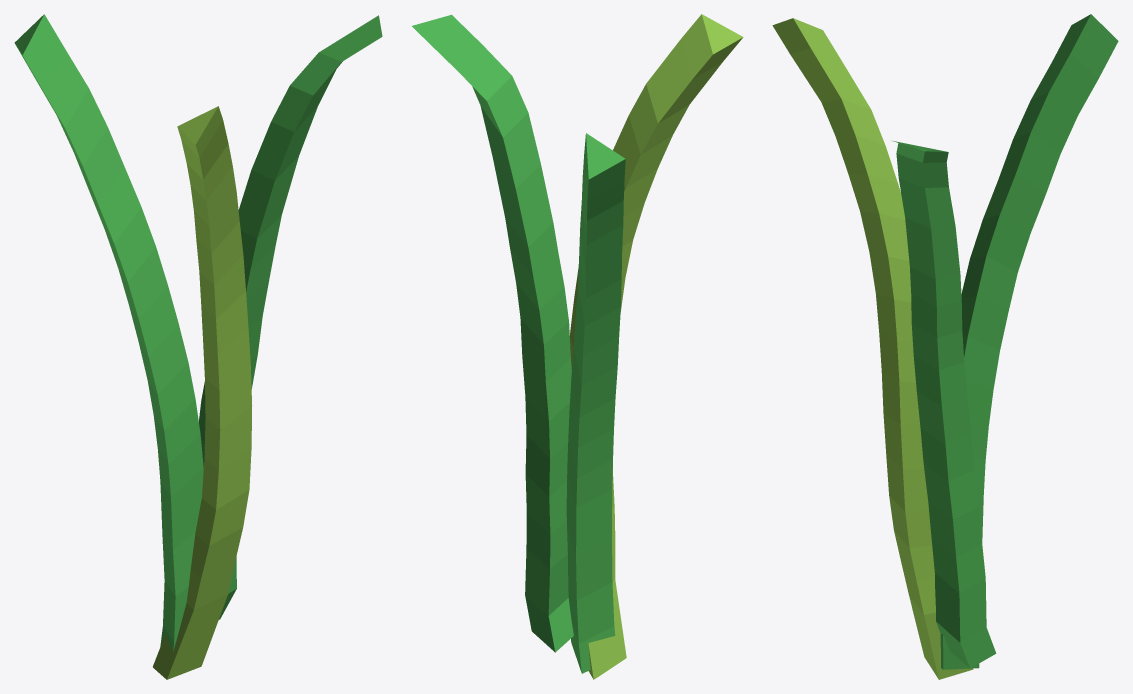
Rendered from step-1.glb.
The picture shows the model from 3 angles, left to right: view 1: azimuth 30°, elevation 25°; view 2: azimuth 150°, elevation 25°; view 3: azimuth 270°, elevation 25°; orthographic projection. The views are drawn at different scales.
Parts seen in each view (by area): view 1: group519773470.001, group631341903.001, group1734075056.001; view 2: group1734075056.001, group519773470.001, group631341903.001; view 3: group1734075056.001, group631341903.001, group519773470.001.
Part boxes in pixels (x1,y1,x2,y2): group519773470.001: (14,14,203,651); group631341903.001: (153,106,252,679); group1734075056.001: (199,15,382,619); group1734075056.001: (412,14,573,652); group519773470.001: (566,133,625,673); group631341903.001: (569,14,743,679); group1734075056.001: (893,141,996,668); group631341903.001: (772,18,973,679); group519773470.001: (940,14,1118,669).
Bounding box in the file's own units: 0.0931 × 0.1943 × 0.0953.
